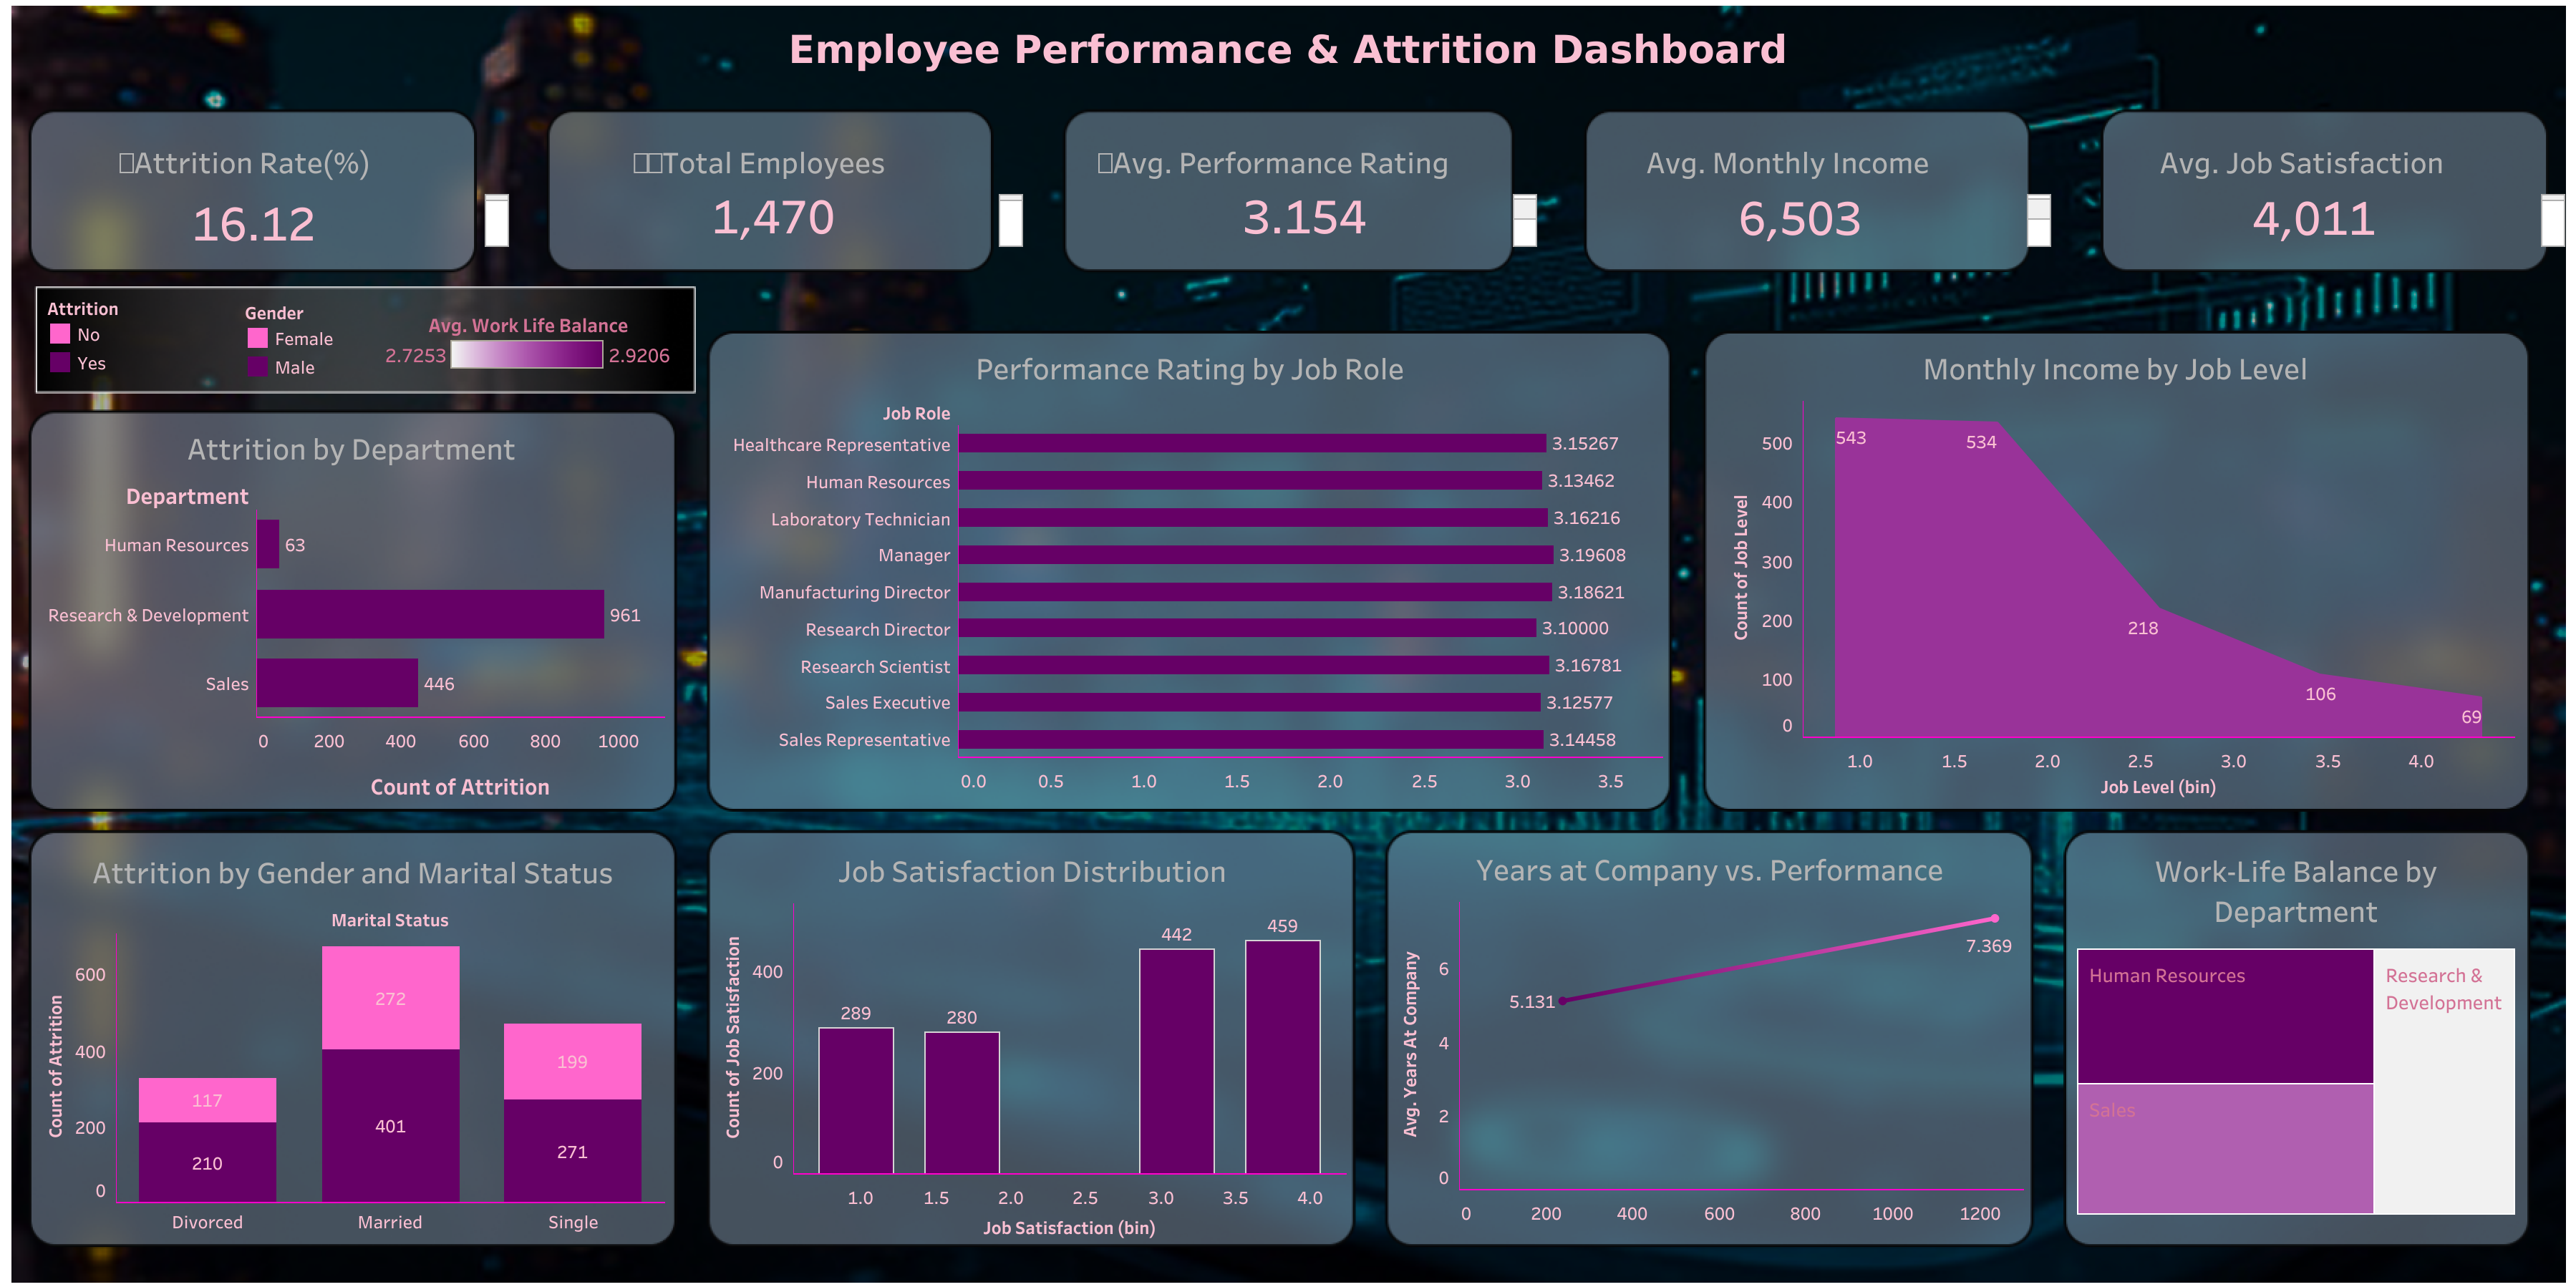

The page's visual inventory and layout, read from the dashboard file:
{"tool":"tableau","page":{"name":"Dashboard 2","canvas":[1800,900],"ordinal":1},"visuals":[{"type":"image","param":"Image/Untitled.png","box":[0,0,1800,900]},{"type":"text","box":[15,14,1769,41]},{"type":"worksheet","title":"Attrition Rate","mark":"Automatic","rows":["Calculation_6368301046953758724"],"box":[0,89,360,87]},{"type":"worksheet","title":"KPI - Total Employees","mark":"Automatic","rows":["EmployeeNumber"],"box":[360,89,359,87]},{"type":"worksheet","title":"Avg. Performance Rating","mark":"Automatic","rows":["PerformanceRating"],"box":[719,89,359,87]},{"type":"worksheet","title":"Avg. Monthly Income","mark":"Automatic","rows":["MonthlyIncome"],"box":[1078,89,359,87]},{"type":"worksheet","title":"Avg. Job Satisfaction","mark":"Automatic","rows":["JobSatisfaction"],"box":[1437,89,359,87]},{"type":"legend","title":"Years at Company vs. Performance","param":"[federated.0g3pocd07f65ac14qavmz08w4wua].[none:Attrition:nk]","box":[32,204,87,67]},{"type":"legend","title":"Attrition by Gender and Marital Status","param":"[federated.0g3pocd07f65ac14qavmz08w4wua].[none:Gender:nk]","box":[170,207,85,62]},{"type":"legend","title":"Work-Life Balance by Department","param":"[federated.0g3pocd07f65ac14qavmz08w4wua].[avg:WorkLifeBalance:qk]","box":[265,213,208,47]},{"type":"worksheet","title":"Performance Rating by Job Role","mark":"Automatic","rows":["JobRole"],"cols":["PerformanceRating"],"box":[501,237,660,323]},{"type":"worksheet","title":"Monthly Income by Job Level","mark":"Area","rows":["JobLevel"],"cols":["Job Level (bin)"],"box":[1199,237,557,321]},{"type":"worksheet","title":"Attrition by Department","mark":"Automatic","rows":["Department"],"cols":["Attrition"],"box":[27,293,437,266]},{"type":"worksheet","title":"Years at Company vs. Performance","mark":"Line","rows":["YearsAtCompany"],"cols":["PerformanceRating"],"box":[975,587,438,275]},{"type":"worksheet","title":"Job Satisfaction Distribution","mark":"Automatic","rows":["JobSatisfaction"],"cols":["Job Satisfaction (bin)"],"box":[502,588,438,278]},{"type":"worksheet","title":"Work-Life Balance by Department","mark":"Automatic","box":[1447,588,313,289]},{"type":"worksheet","title":"Attrition by Gender and Marital Status","mark":"Automatic","rows":["Attrition"],"cols":["MaritalStatus"],"box":[29,589,435,273]}]}

Visuals, with their boxes in screenshot pixels (x1, y1, x2, y2), scaled from the page's 1800x900 canvas onto the 2576x1287 screenshot:
image: box=[0, 0, 2575, 1286]
text: box=[21, 20, 2553, 79]
"Attrition Rate" worksheet: box=[0, 127, 515, 252]
"KPI - Total Employees" worksheet: box=[515, 127, 1029, 252]
"Avg. Performance Rating" worksheet: box=[1029, 127, 1543, 252]
"Avg. Monthly Income" worksheet: box=[1543, 127, 2056, 252]
"Avg. Job Satisfaction" worksheet: box=[2056, 127, 2570, 252]
"Years at Company vs. Performance" legend: box=[46, 292, 170, 387]
"Attrition by Gender and Marital Status" legend: box=[243, 296, 365, 384]
"Work-Life Balance by Department" legend: box=[379, 305, 677, 371]
"Performance Rating by Job Role" worksheet: box=[717, 339, 1662, 801]
"Monthly Income by Job Level" worksheet (Area marks): box=[1716, 339, 2513, 798]
"Attrition by Department" worksheet: box=[39, 419, 664, 800]
"Years at Company vs. Performance" worksheet (Line marks): box=[1395, 840, 2022, 1233]
"Job Satisfaction Distribution" worksheet: box=[718, 841, 1345, 1238]
"Work-Life Balance by Department" worksheet: box=[2071, 841, 2519, 1254]
"Attrition by Gender and Marital Status" worksheet: box=[42, 842, 664, 1233]
